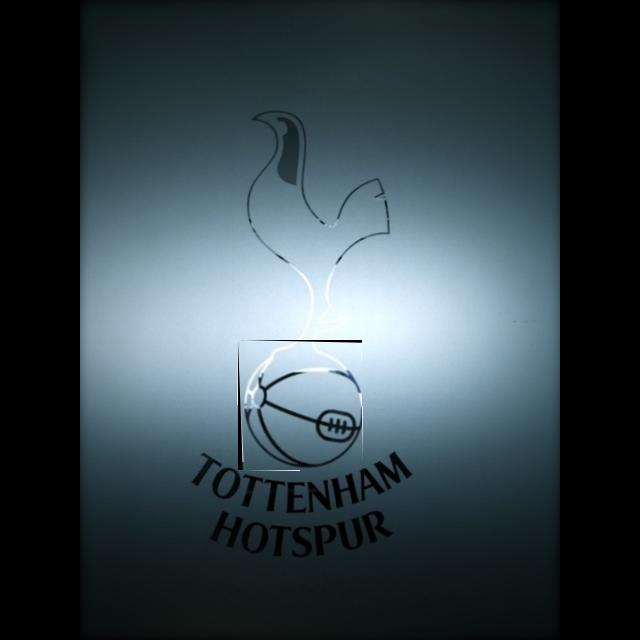Football: (238, 340, 362, 470)
